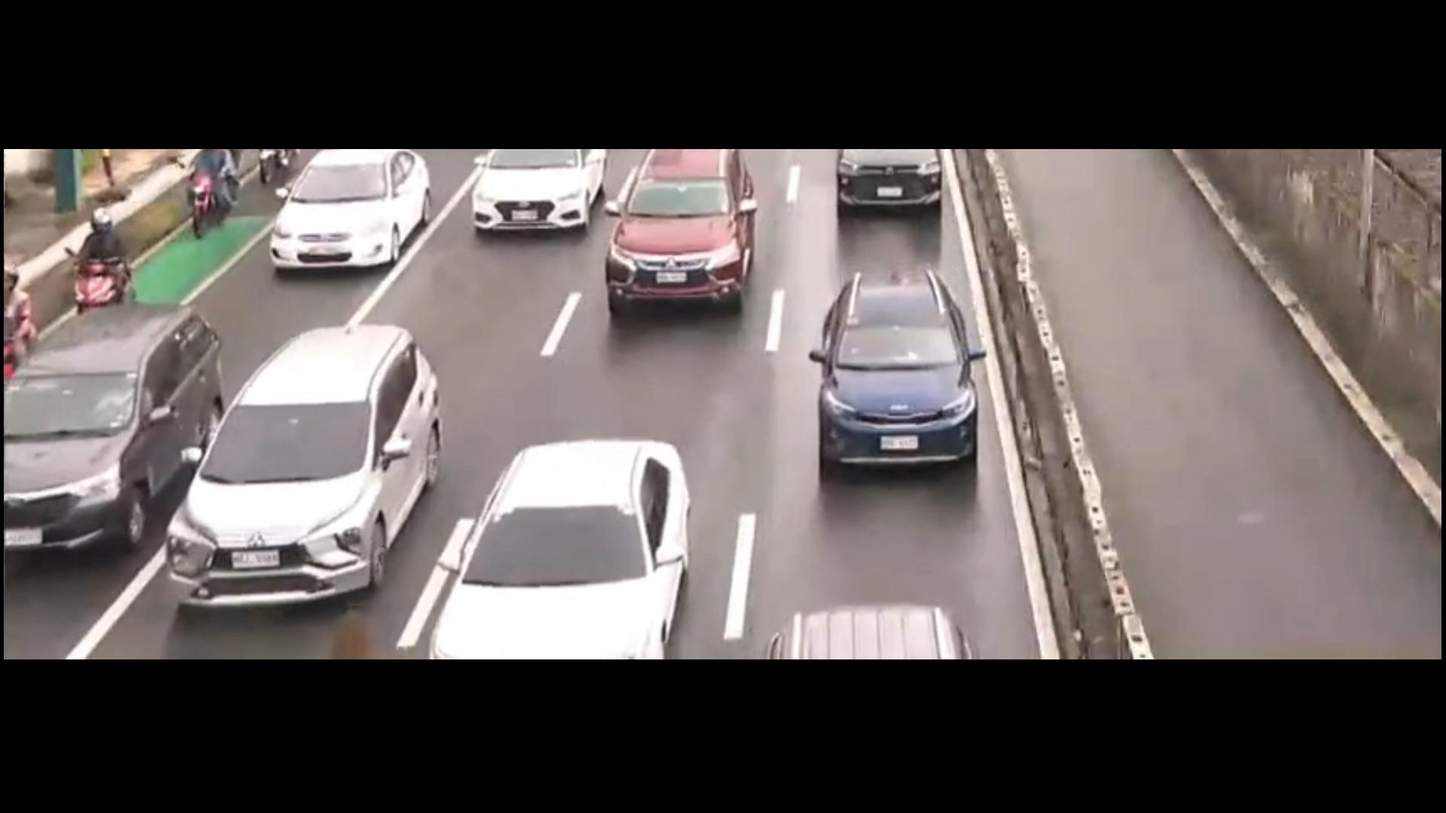Motorcycle: (64, 205, 134, 320), (173, 143, 249, 241)
SUV: (169, 329, 446, 595), (0, 301, 233, 546), (608, 154, 759, 316)
Sedan: (427, 435, 693, 661), (252, 151, 444, 265), (469, 143, 612, 243)
